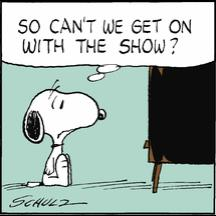snoopy: (23, 79, 107, 189)
